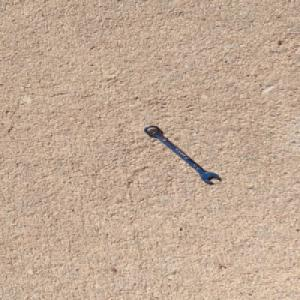Wrench: (142, 123, 223, 184)
